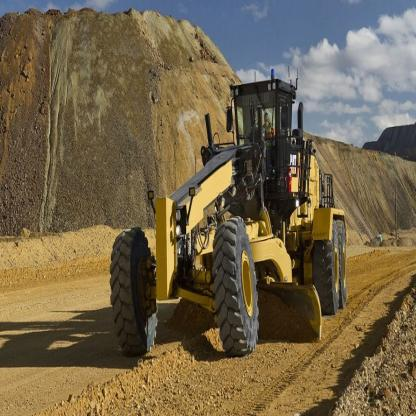bull_dozer/loader/grader: (106, 66, 356, 362)
